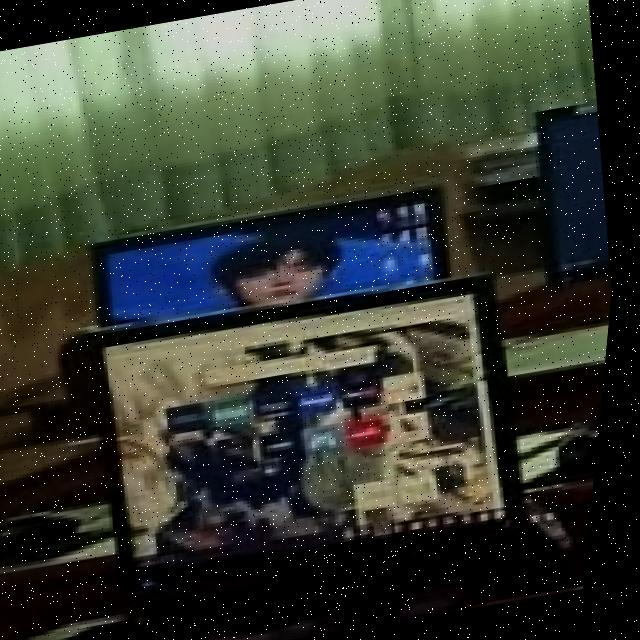offscreen: (539, 105, 616, 281)
onscreen: (113, 295, 514, 559), (98, 188, 450, 325)
